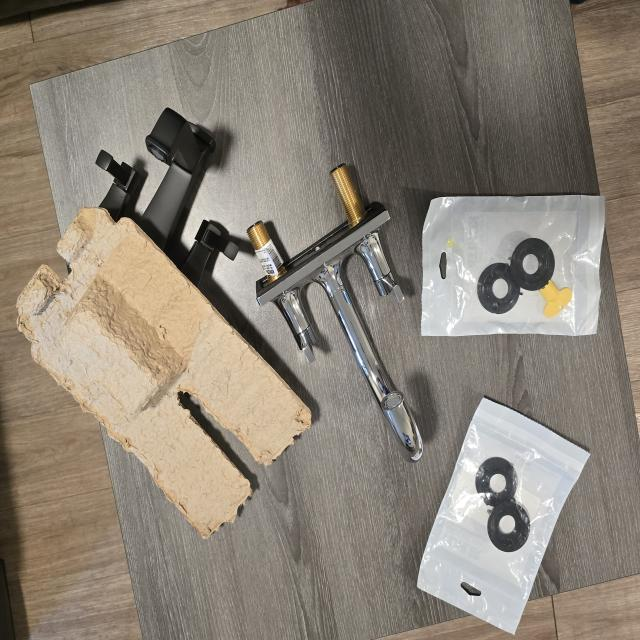10: (247, 163, 423, 461)
12: (422, 195, 604, 336)
13: (417, 398, 589, 634)
9o: (135, 108, 215, 250), (173, 221, 238, 286), (96, 150, 139, 221)
